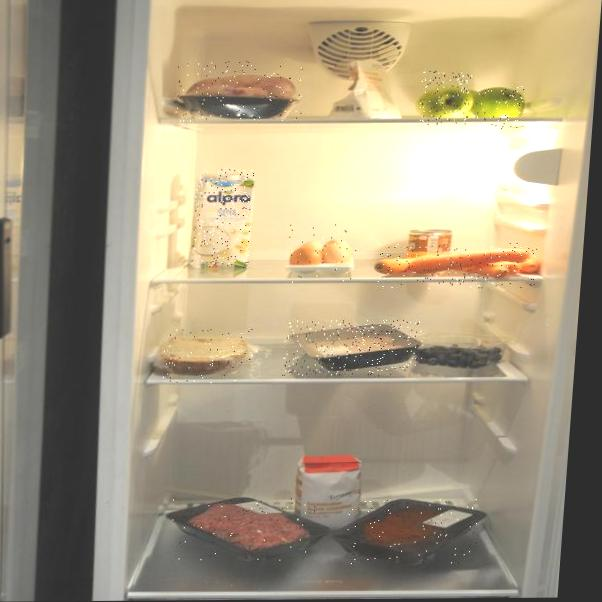apple: (418, 70, 475, 125), (473, 86, 524, 130)
bread: (161, 329, 253, 384)
carrots: (376, 243, 539, 289)
chicken: (173, 61, 305, 122)
eggs: (286, 224, 363, 283)
meat: (168, 498, 320, 562), (345, 499, 481, 564), (282, 320, 425, 377)
milk: (190, 169, 255, 269)
